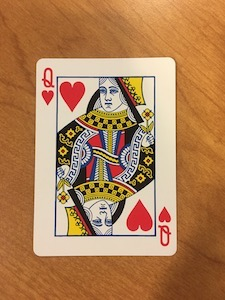QueenOfHearts: (29, 51, 182, 264)
